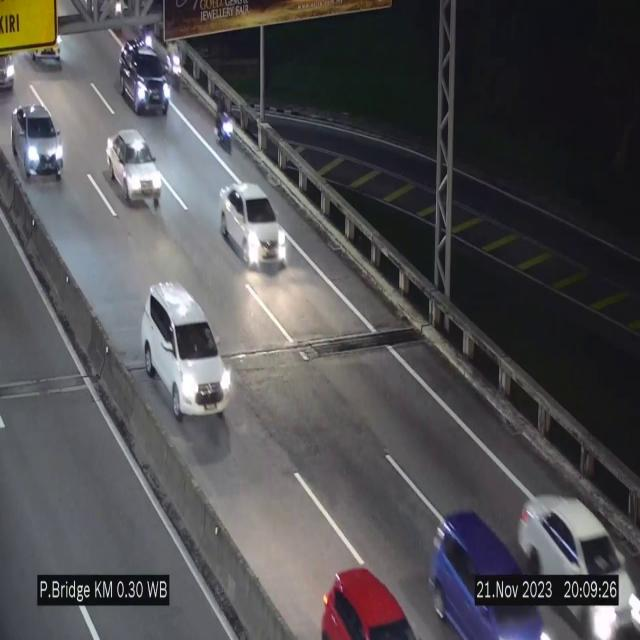Car: (515, 473, 640, 640), (423, 491, 553, 640), (142, 282, 228, 418), (312, 546, 425, 640), (220, 183, 286, 269), (106, 130, 162, 205), (117, 42, 168, 122), (12, 104, 64, 178), (0, 40, 20, 93)
Motorcycle: (166, 34, 184, 100), (214, 101, 233, 161), (134, 10, 156, 50)
